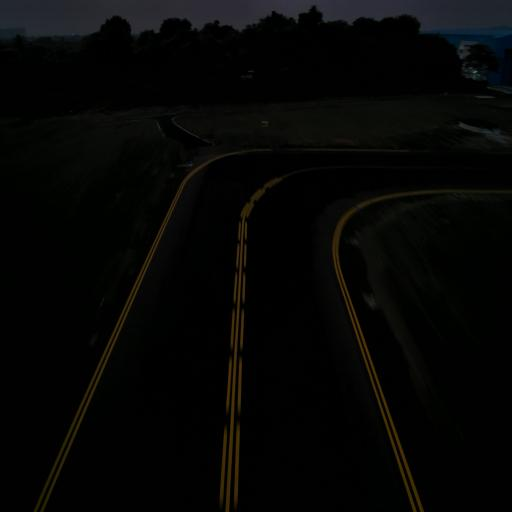on: (100, 294, 105, 310), (370, 292, 376, 302), (188, 159, 193, 166)
